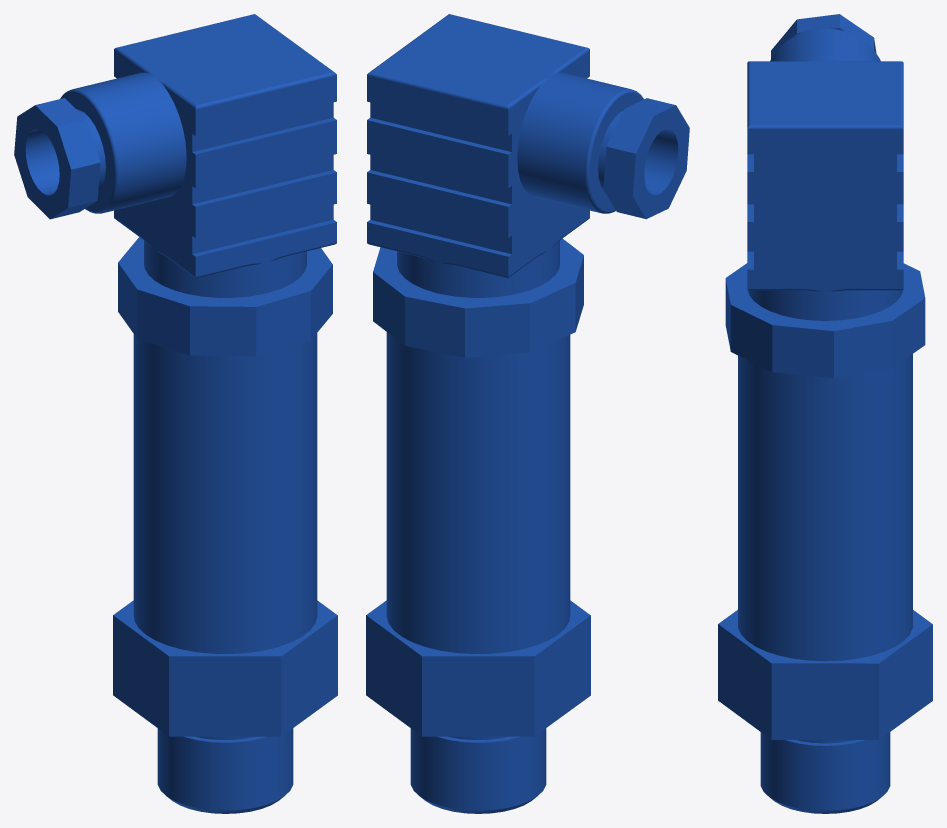
Rendered from 高频压力传感器.glb.
3 views of the same model, side by side, from view 1: azimuth 30°, elevation 25°; view 2: azimuth 150°, elevation 25°; view 3: azimuth 270°, elevation 25° (orthographic). The views are drawn at different scales.
Visible parts, largest first — view 1: 高频压力传感器.SLDPRT; view 2: 高频压力传感器.SLDPRT; view 3: 高频压力传感器.SLDPRT.
Boxes of the visible parts, x1,y1,x2,y2 form: 高频压力传感器.SLDPRT: [14, 14, 337, 813]; 高频压力传感器.SLDPRT: [366, 14, 689, 813]; 高频压力传感器.SLDPRT: [718, 14, 932, 813].
Bounding box in the file's own units: 0.0467 × 0.118 × 0.033.
